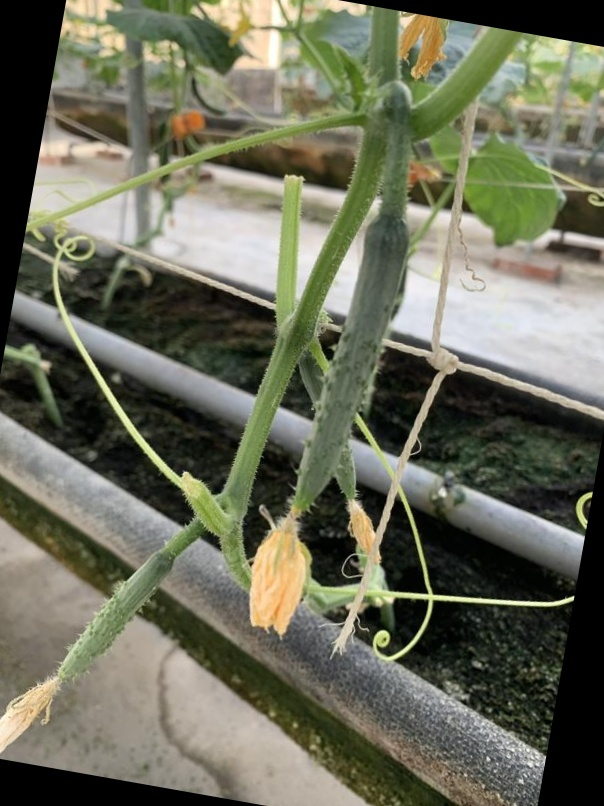bear: (0, 544, 181, 752)
growth: (242, 206, 418, 634)
